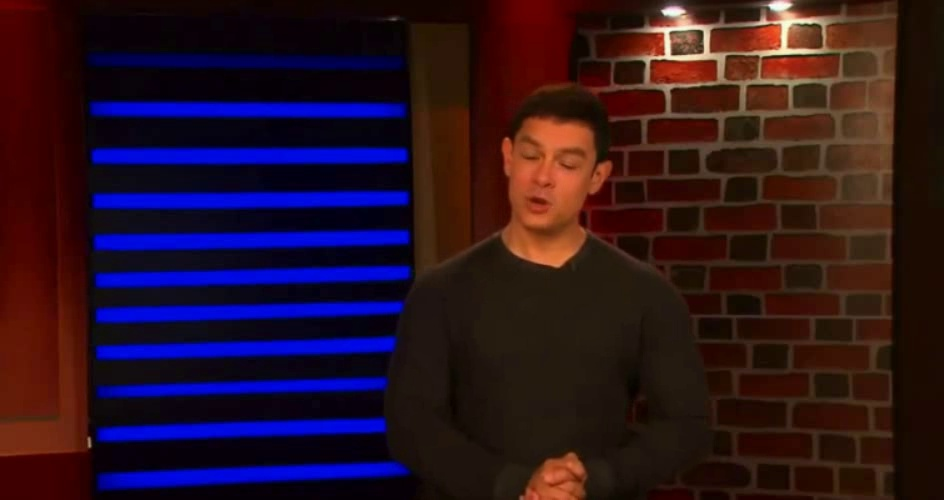fake: (509, 115, 594, 229)
